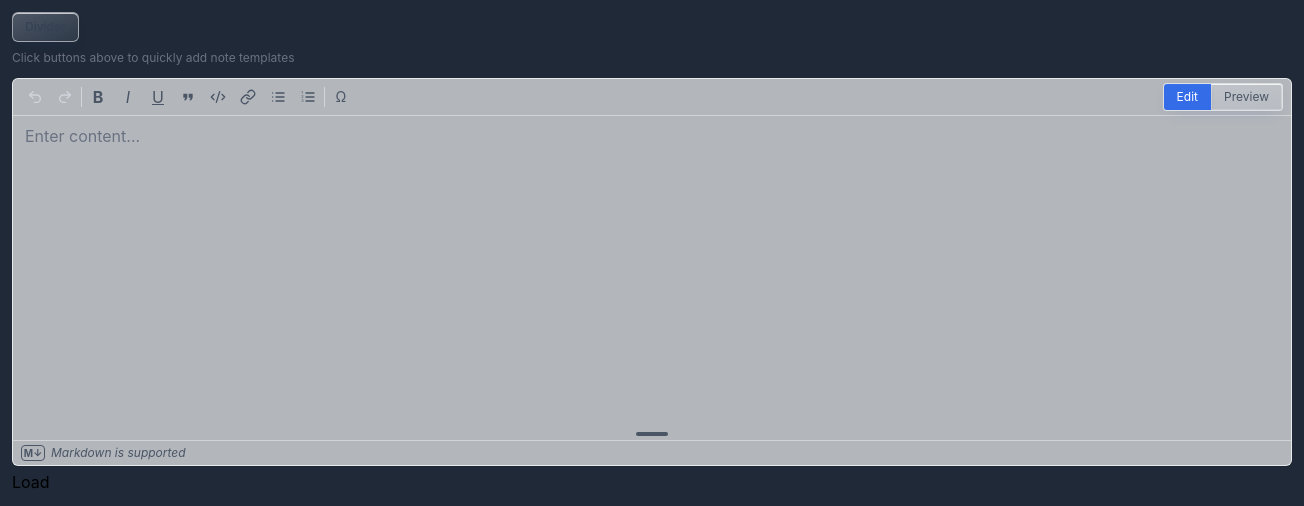
Test: MarkdownEditorField undo / redo › undoes and redoes continuous typing as a single step
This screenshot has width=1304, height=506.
In the text box: (652, 272) [13,116,1291,428], type "abc"
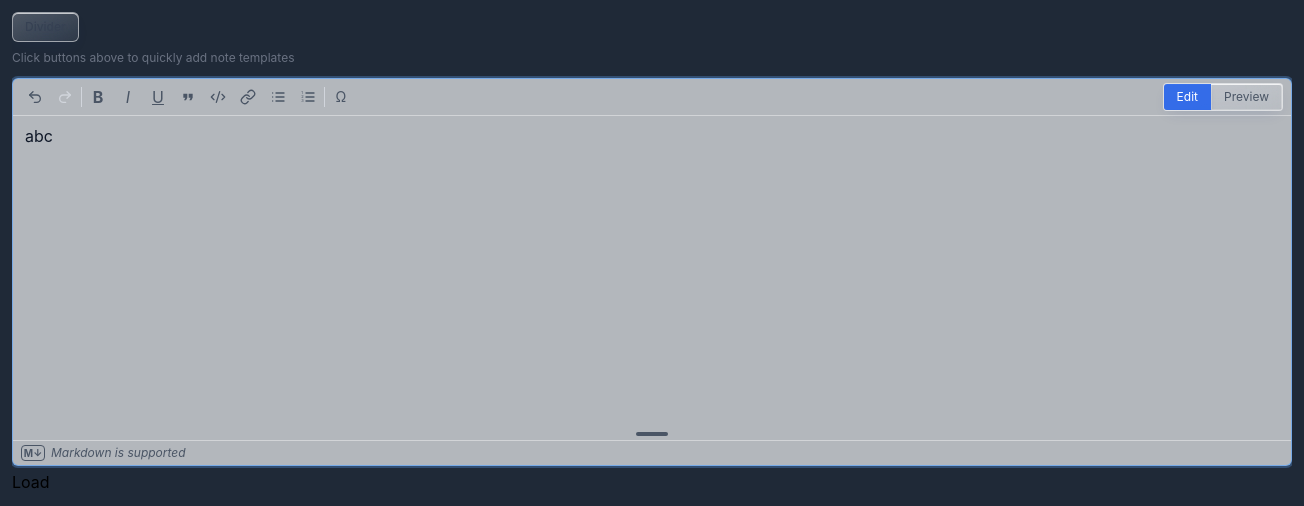
Expected: the button named "Redo" is disabled, [51,83,79,111]
Result: the button named "Undo" is enabled
Click the button named "Undo": (35, 97) [21,83,49,111]
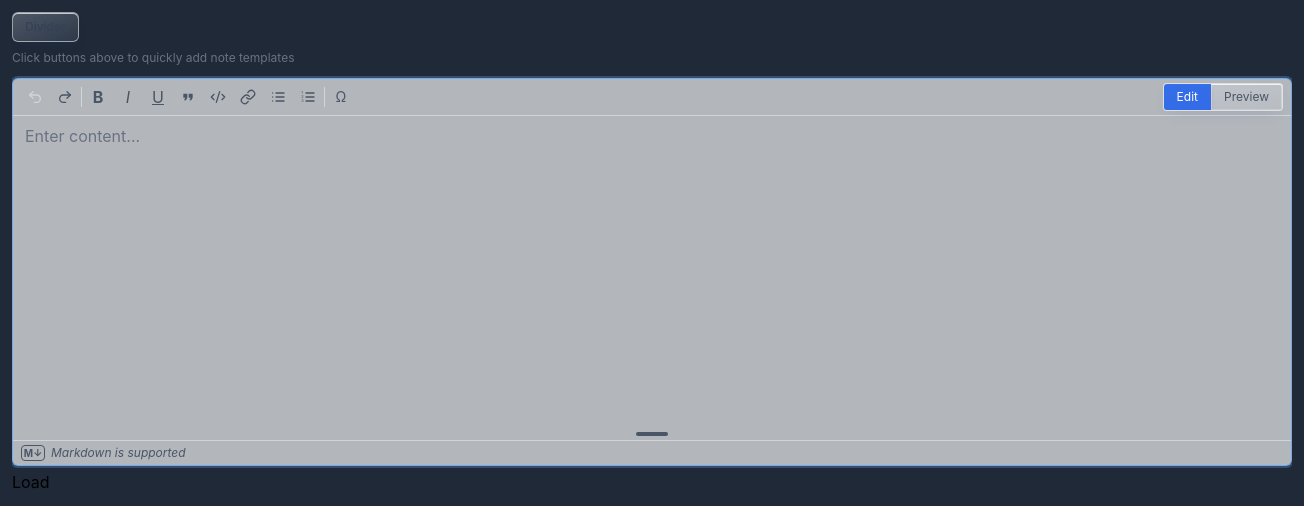
Result: the text box is empty
Result: the button named "Undo" is disabled at [21,83,49,111]
Result: the button named "Redo" is enabled
Click the button named "Redo": (65, 97) [51,83,79,111]
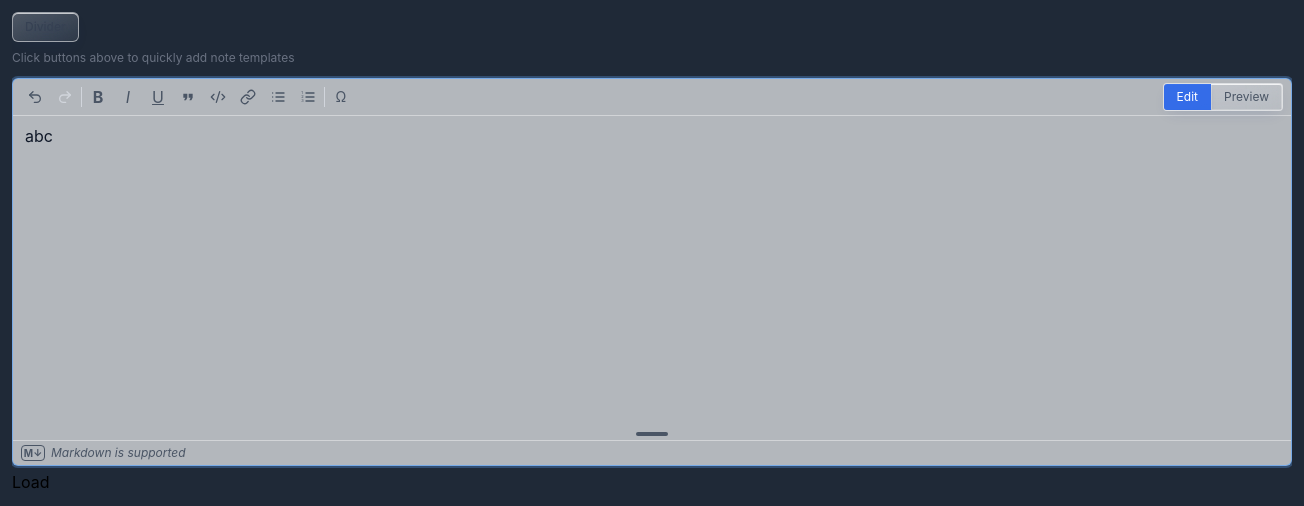
Result: the button named "Undo" is enabled at [21,83,49,111]
Result: the button named "Redo" is disabled at [51,83,79,111]
